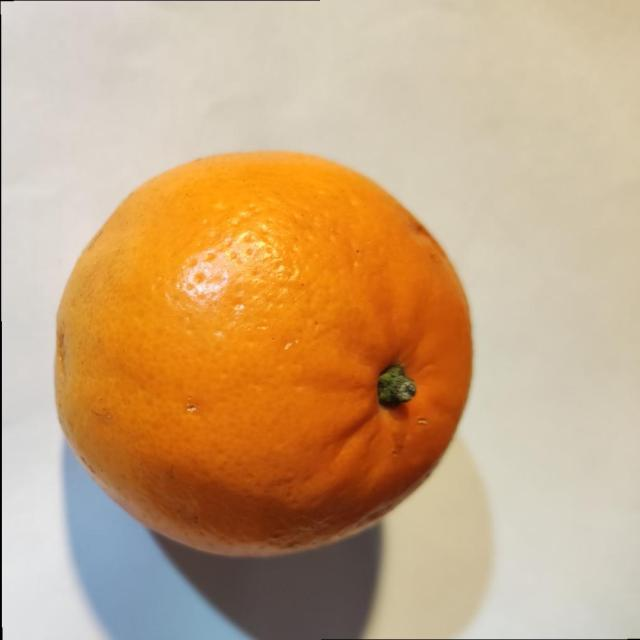fresh orange: (53, 148, 474, 559)
